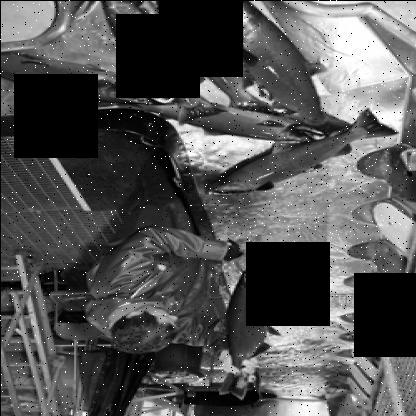fish: (214, 1, 354, 139), (205, 109, 397, 198), (214, 266, 278, 400)
